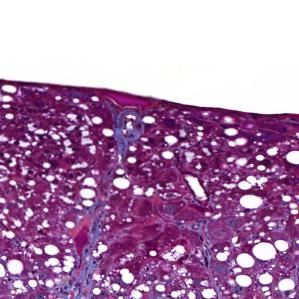fibrosis: (70, 228, 104, 290)
